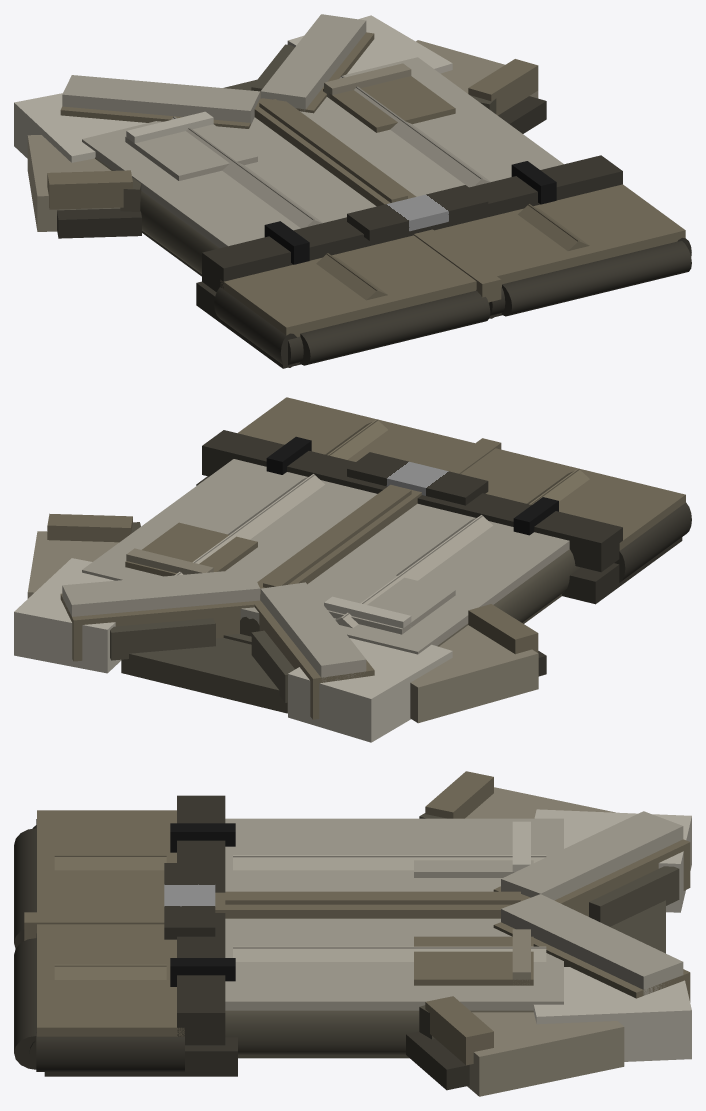
File: CMU3DAU14CivilianBoilerSuitWhiteWorldCloud.glb
3 views of the same model, one above another, from view 1: azimuth 30°, elevation 25°; view 2: azimuth 150°, elevation 25°; view 3: azimuth 270°, elevation 25° (orthographic). The views are drawn at different scales.
Parts seen in each view (by area): view 1: left shirt front continuous cloth panel, left folded trouser panel continuous cloth panel, right shirt front continuous cloth panel, right folded trouser panel continuous cloth panel, continuous attached waist belt, right turned trouser hem, left turned trouser hem, left turned collar face, right turned collar face, original small waist clasp, left continuous shoulder cloth, left flat chest pocket cloth (+25 smaller); view 2: left shirt front continuous cloth panel, right shirt front continuous cloth panel, continuous attached waist belt, left continuous shoulder cloth, left folded trouser panel continuous cloth panel, left sloping sleeve cloth, right folded trouser panel continuous cloth panel, recessed inner neck facing, right turned collar face, right continuous shoulder cloth, left turned collar face, original small waist clasp (+23 smaller); view 3: right shirt front continuous cloth panel, left shirt front continuous cloth panel, right folded trouser panel continuous cloth panel, left folded trouser panel continuous cloth panel, right sloping sleeve cloth, right shirt front right turned edge, right continuous shoulder cloth, continuous attached waist belt, right turned collar face, left turned collar face, right folded trouser panel right turned edge, right flat chest pocket cloth (+28 smaller).
Boxes of the visible parts, left/top/right/bottom form: left shirt front continuous cloth panel: left=82, top=117, right=376, bottom=247; left folded trouser panel continuous cloth panel: left=220, top=235, right=476, bottom=363; right shirt front continuous cloth panel: left=300, top=57, right=563, bottom=196; right folded trouser panel continuous cloth panel: left=434, top=184, right=685, bottom=314; continuous attached waist belt: left=202, top=155, right=622, bottom=291; right turned trouser hem: left=501, top=241, right=691, bottom=316; left turned trouser hem: left=299, top=291, right=490, bottom=365; left turned collar face: left=62, top=75, right=260, bottom=124; right turned collar face: left=260, top=14, right=366, bottom=111; original small waist clasp: left=347, top=185, right=488, bottom=240; left continuous shoulder cloth: left=14, top=93, right=146, bottom=162; left flat chest pocket cloth: left=125, top=124, right=257, bottom=180; left shirt front continuous cloth panel: left=250, top=503, right=569, bottom=654; right shirt front continuous cloth panel: left=82, top=459, right=377, bottom=619; continuous attached waist belt: left=202, top=430, right=622, bottom=572; left continuous shoulder cloth: left=288, top=638, right=452, bottom=742; left folded trouser panel continuous cloth panel: left=460, top=448, right=685, bottom=550; left sloping sleeve cloth: left=410, top=625, right=538, bottom=723; right folded trouser panel continuous cloth panel: left=237, top=397, right=474, bottom=468; recessed inner neck facing: left=121, top=638, right=287, bottom=713; right turned collar face: left=62, top=569, right=260, bottom=616; right continuous shoulder cloth: left=14, top=558, right=121, bottom=673; left turned collar face: left=260, top=582, right=366, bottom=682; original small waist clasp: left=347, top=452, right=488, bottom=505; right shirt front continuous cloth panel: left=225, top=918, right=563, bottom=1010; left shirt front continuous cloth panel: left=225, top=818, right=563, bottom=891; right folded trouser panel continuous cloth panel: left=37, top=924, right=184, bottom=1036; left folded trouser panel continuous cloth panel: left=37, top=810, right=176, bottom=912; right sloping sleeve cloth: left=467, top=1012, right=624, bottom=1096; right shirt front right turned edge: left=225, top=1010, right=533, bottom=1054; right continuous shoulder cloth: left=533, top=967, right=691, bottom=1061; continuous attached waist belt: left=177, top=795, right=225, bottom=1045; right turned collar face: left=501, top=894, right=683, bottom=995; left turned collar face: left=501, top=811, right=683, bottom=900; right folded trouser panel right turned edge: left=36, top=1032, right=184, bottom=1071; right flat chest pocket cloth: left=414, top=936, right=533, bottom=985.
Size of the model in its own units: 0.3961 by 0.05 by 0.4159.
8 materials, 1 textured.
